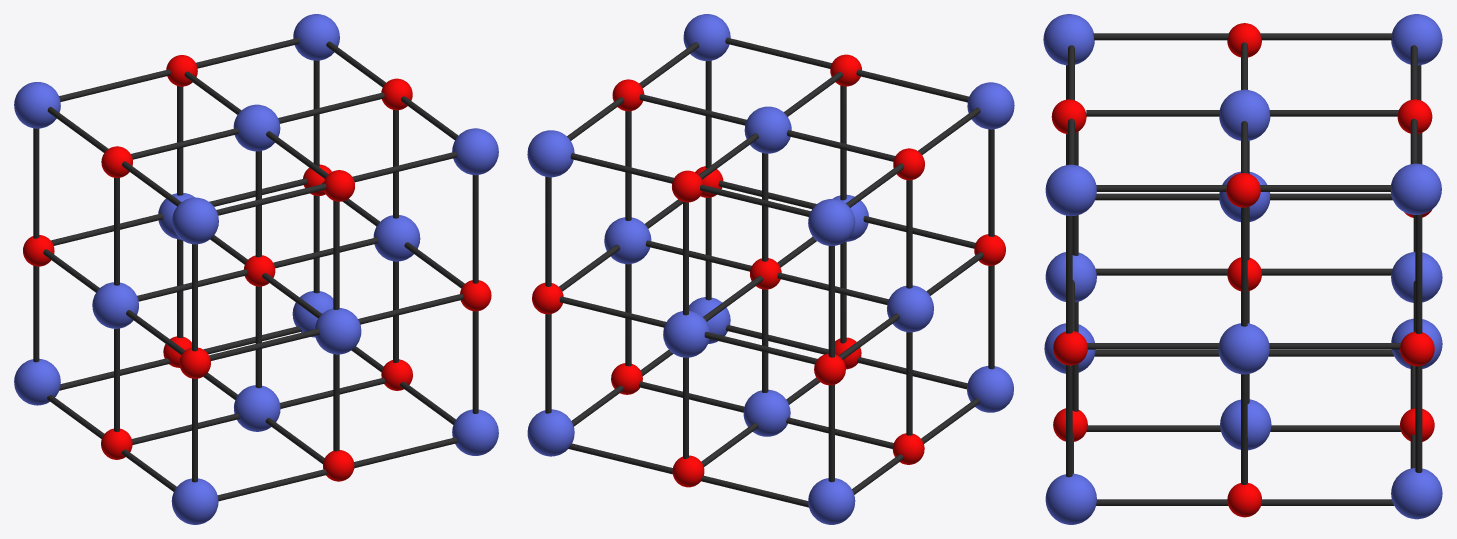
The model's file is Nacl.glb.
The picture shows the model from 3 angles, left to right: view 1: azimuth 30°, elevation 25°; view 2: azimuth 150°, elevation 25°; view 3: azimuth 270°, elevation 25°; orthographic projection. The views are drawn at different scales.
Parts seen in each view (by area): view 1: Sphere.006, Sphere, Sphere.007, Sphere.008, Sphere.005, Sphere.003, Sphere.002, Sphere.013, Sphere.012, Sphere.001, Sphere.011, Sphere.010 (+40 smaller); view 2: Sphere.002, Sphere.001, Sphere.004, Sphere.003, Sphere.009, Sphere.006, Sphere.007, Sphere.013, Sphere.011, Sphere.012, Sphere, Sphere.010 (+40 smaller); view 3: Cylinder.008, Sphere, Sphere.001, Cylinder.005, Sphere.010, Sphere.005, Sphere.004, Sphere.002, Sphere.012, Sphere.006, Cylinder.007, Cylinder.001 (+28 smaller).
Boxes of the visible parts, left/top/right/bottom form: Sphere.006: left=172, top=197, right=218, bottom=244; Sphere: left=452, top=128, right=498, bottom=175; Sphere.007: left=171, top=478, right=218, bottom=524; Sphere.008: left=315, top=308, right=361, bottom=354; Sphere.005: left=452, top=409, right=498, bottom=455; Sphere.003: left=14, top=358, right=60, bottom=405; Sphere.002: left=14, top=82, right=60, bottom=128; Sphere.013: left=92, top=282, right=138, bottom=328; Sphere.012: left=233, top=104, right=280, bottom=151; Sphere.001: left=293, top=14, right=339, bottom=60; Sphere.011: left=234, top=385, right=280, bottom=431; Sphere.010: left=373, top=215, right=420, bottom=261; Sphere.002: left=808, top=199, right=855, bottom=245; Sphere.001: left=527, top=130, right=574, bottom=177; Sphere.004: left=527, top=409, right=574, bottom=456; Sphere.003: left=808, top=478, right=855, bottom=524; Sphere.009: left=663, top=311, right=709, bottom=357; Sphere.006: left=967, top=82, right=1014, bottom=129; Sphere.007: left=967, top=366, right=1013, bottom=412; Sphere.013: left=887, top=285, right=933, bottom=332; Sphere.011: left=743, top=389, right=790, bottom=436; Sphere.012: left=744, top=106, right=791, bottom=153; Sphere: left=683, top=14, right=730, bottom=61; Sphere.010: left=604, top=217, right=651, bottom=264; Cylinder.008: left=1093, top=33, right=1392, bottom=40; Sphere: left=1045, top=164, right=1096, bottom=216; Sphere.001: left=1390, top=163, right=1441, bottom=214; Cylinder.005: left=1095, top=268, right=1392, bottom=275; Sphere.010: left=1218, top=323, right=1269, bottom=374; Sphere.005: left=1045, top=473, right=1096, bottom=524; Sphere.004: left=1391, top=468, right=1442, bottom=519; Sphere.002: left=1391, top=14, right=1442, bottom=65; Sphere.012: left=1219, top=89, right=1270, bottom=140; Sphere.006: left=1043, top=14, right=1094, bottom=65; Cylinder.007: left=1095, top=193, right=1392, bottom=200; Cylinder.001: left=1086, top=425, right=1400, bottom=431.
Bounding box in the file's own units: 3.9 × 3.75 × 3.82.
